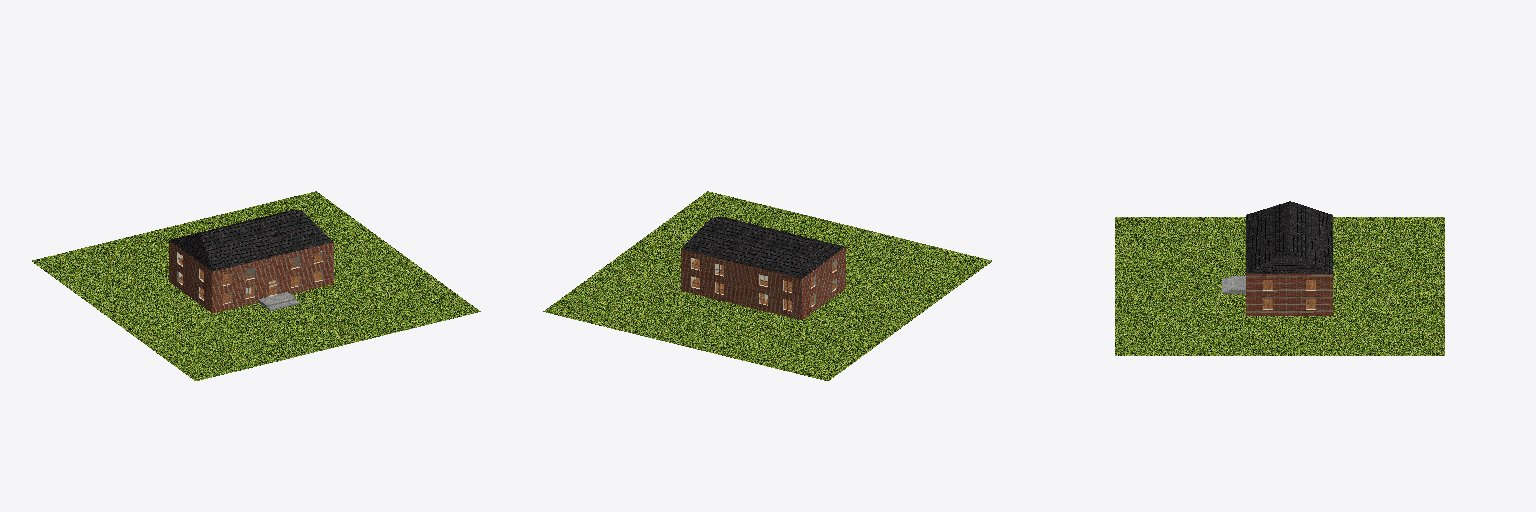
3 views of the same model, side by side, from view 1: azimuth 30°, elevation 25°; view 2: azimuth 150°, elevation 25°; view 3: azimuth 270°, elevation 25° (orthographic).
Parts seen in each view (by area): view 1: Cube; view 2: Cube; view 3: Cube.
Boxes of the visible parts, box(x1,y1,x2,y2) form: Cube: box(32, 191, 480, 380); Cube: box(543, 191, 991, 380); Cube: box(1115, 201, 1444, 355).
Size of the model in its own units: 96.57 by 19.58 by 96.57.
2 materials, 1 textured.